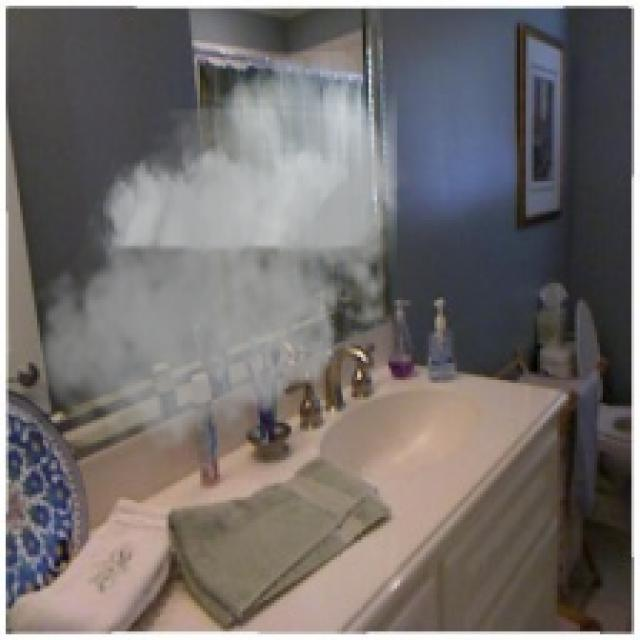smoke: (31, 51, 412, 466)
